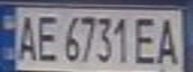1: (109, 13, 133, 64)
3: (93, 13, 115, 64)
6: (60, 12, 81, 63)
7: (78, 12, 96, 63)
A: (154, 14, 184, 68), (12, 10, 39, 62)
E: (133, 12, 160, 66), (33, 11, 60, 63)
